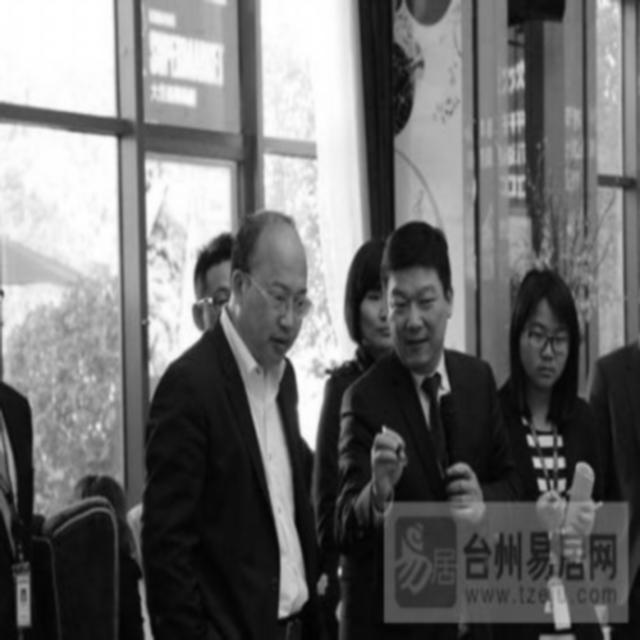head: (232, 205, 315, 365), (379, 215, 456, 366), (514, 266, 578, 404), (346, 239, 398, 361), (196, 228, 235, 340)
